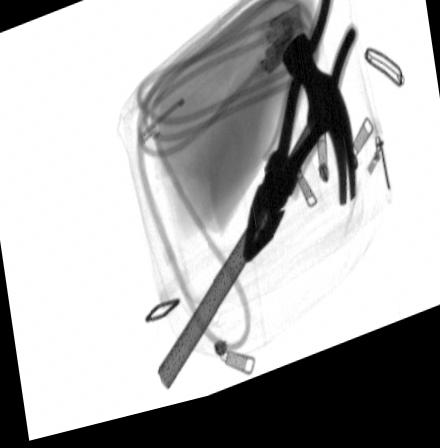Hammer: (157, 45, 357, 398)
Pliers: (240, 0, 358, 277)
